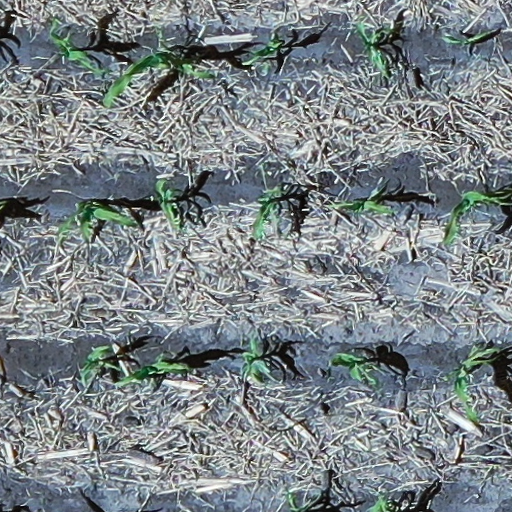planta: (101, 39, 211, 107), (450, 345, 500, 423), (58, 202, 135, 250), (51, 16, 109, 75), (444, 189, 502, 246), (116, 356, 190, 387), (354, 22, 392, 77), (154, 177, 186, 229), (253, 187, 283, 240), (321, 193, 392, 215), (331, 352, 377, 385), (80, 345, 122, 381), (243, 339, 269, 385)
